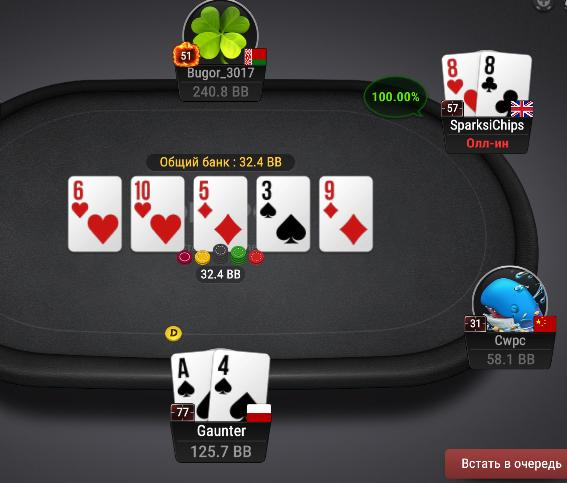10h: (131, 176, 185, 253)
3s: (257, 177, 309, 250)
4s: (212, 349, 267, 421)
5d: (195, 177, 247, 249)
6h: (68, 177, 123, 249)
8c: (480, 51, 531, 117)
8h: (442, 52, 479, 117)
9d: (321, 177, 373, 251)
As: (169, 354, 209, 423)
